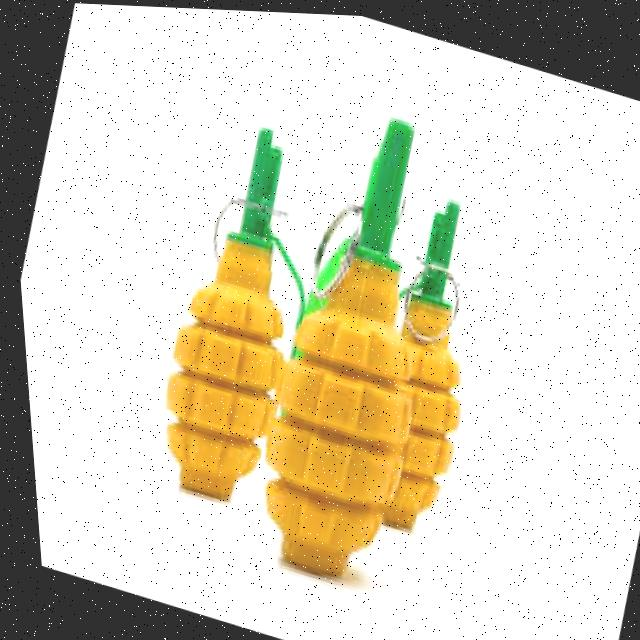grenade: (203, 97, 482, 621), (117, 78, 363, 518), (325, 180, 518, 546)
